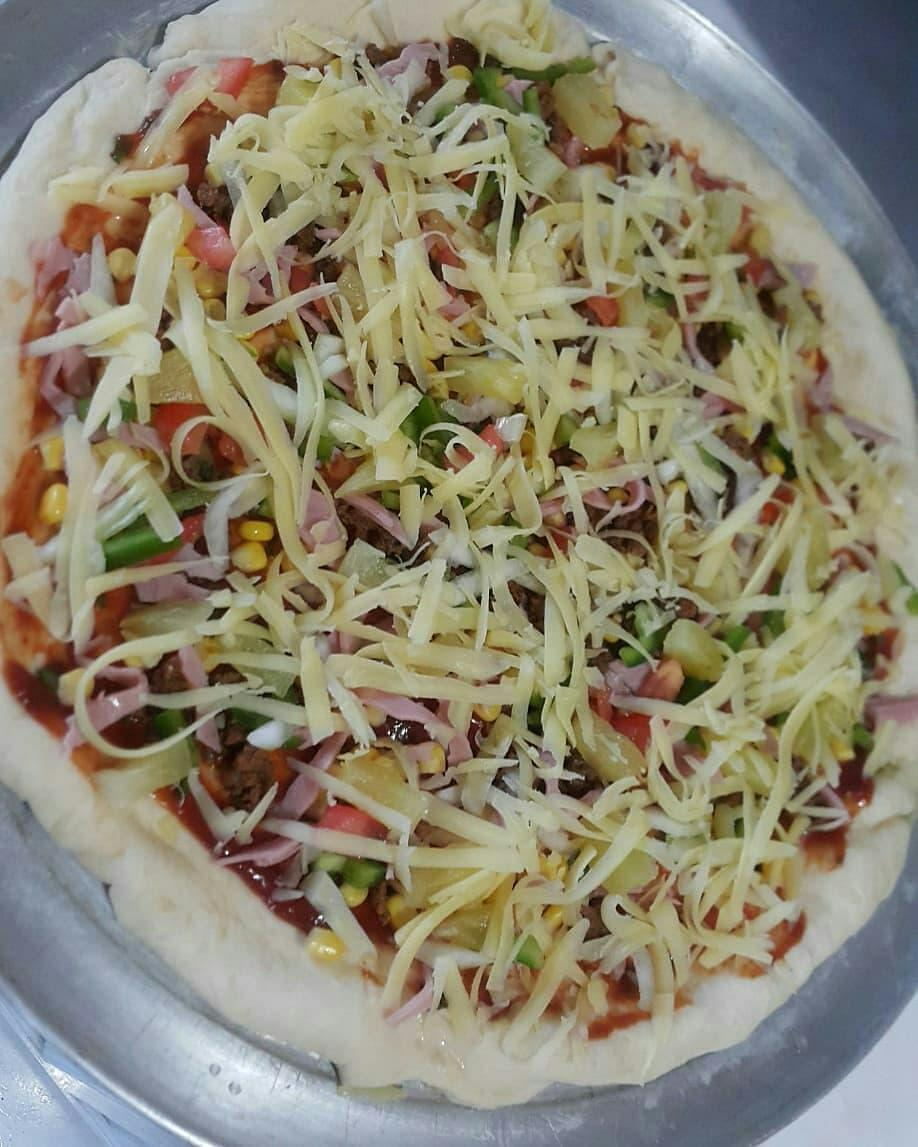Corn: (304, 928, 345, 960), (227, 542, 269, 573), (41, 430, 68, 470), (41, 485, 70, 522), (240, 513, 277, 542), (387, 895, 421, 926), (419, 739, 448, 775), (536, 854, 568, 885), (106, 244, 136, 277), (472, 698, 509, 719), (338, 883, 370, 907), (541, 905, 565, 928)
Ham: (59, 669, 146, 744), (275, 734, 339, 814), (178, 647, 220, 752), (347, 490, 422, 548), (32, 245, 91, 306), (359, 686, 443, 724), (45, 349, 89, 407), (220, 840, 305, 870), (295, 489, 340, 543), (585, 477, 653, 511), (681, 322, 714, 375), (865, 695, 918, 724)
Pineapple: (340, 757, 429, 828), (574, 706, 647, 784), (403, 842, 498, 900), (553, 74, 625, 150), (444, 351, 536, 399), (659, 619, 725, 683), (334, 263, 378, 319), (573, 425, 627, 460)
Pizza: (0, 0, 918, 1113)
Tomatoes: (169, 56, 258, 108), (150, 399, 213, 455), (58, 201, 136, 245), (314, 806, 392, 845), (187, 224, 236, 266), (614, 712, 653, 758)
